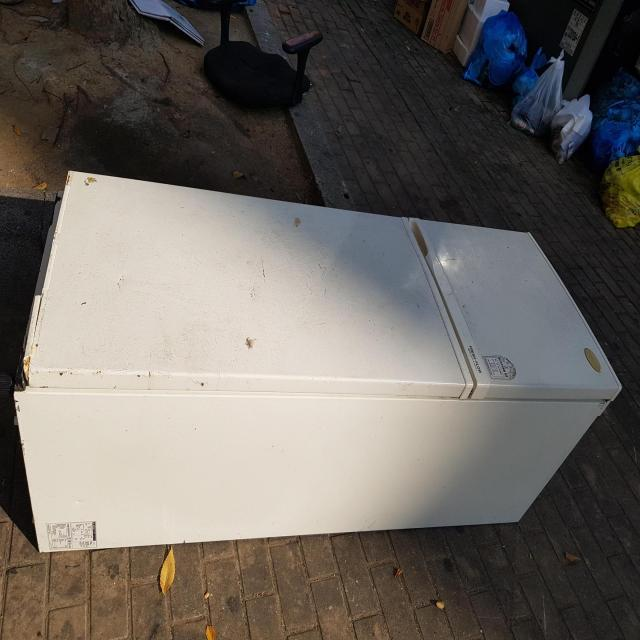refrigerator: (14, 169, 622, 555)
